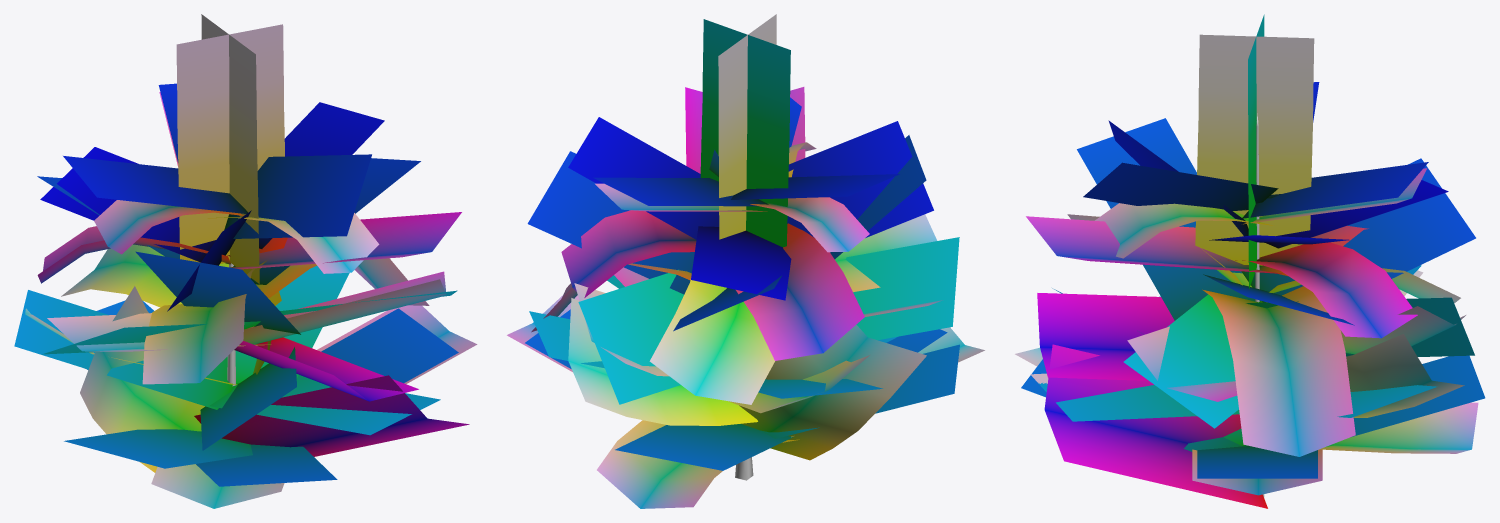
The model's file is spruce_01_4.fbx.
3 renders of one model, left to right at view 1: azimuth 30°, elevation 25°; view 2: azimuth 150°, elevation 25°; view 3: azimuth 270°, elevation 25°, orthographic. The views are drawn at different scales.
Parts seen in each view (by area): view 1: spruce_leaves_01_4_lod_0, spruce_leaves_01_4_shadow; view 2: spruce_leaves_01_4_shadow, spruce_leaves_01_4_lod_0; view 3: spruce_leaves_01_4_lod_0, spruce_leaves_01_4_shadow.
Boxes of the visible parts, x1,y1,x2,y2 form: spruce_leaves_01_4_lod_0: (25, 14, 477, 508); spruce_leaves_01_4_shadow: (14, 83, 458, 486); spruce_leaves_01_4_shadow: (525, 19, 959, 470); spruce_leaves_01_4_lod_0: (507, 14, 984, 508); spruce_leaves_01_4_lod_0: (1015, 34, 1478, 508); spruce_leaves_01_4_shadow: (1021, 14, 1485, 478).
Size of what is drawn, in the model's own units: 3.88 by 4.03 by 3.76.
